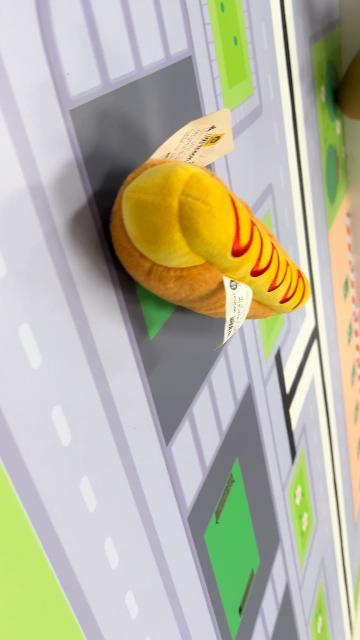hotdog: (109, 158, 313, 322)
